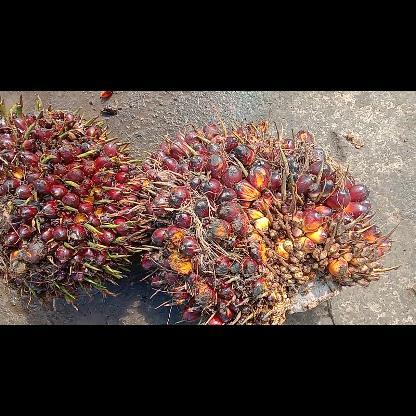Kurang masak: (0, 95, 149, 311)
TBS masak: (140, 116, 398, 324)
